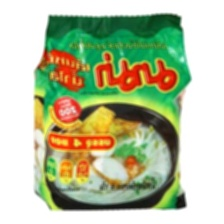snack: (26, 5, 198, 217)
